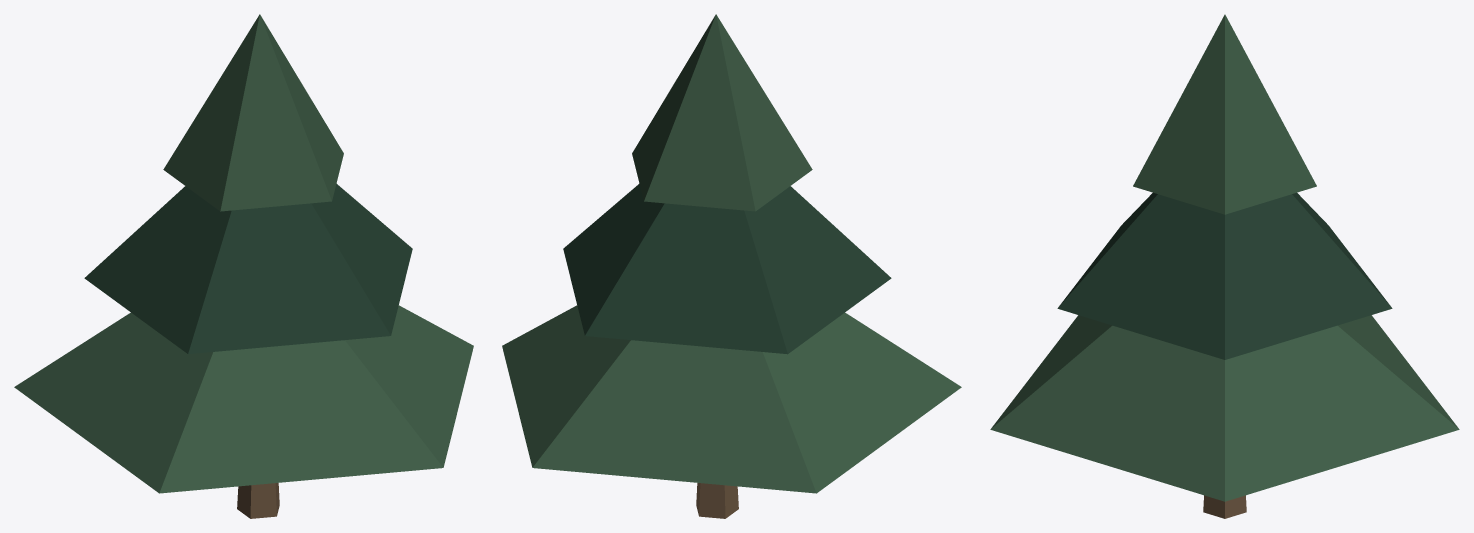
Rendered from tree_pine_02_lod2.glb.
3 views of the same model, side by side, from view 1: azimuth 30°, elevation 25°; view 2: azimuth 150°, elevation 25°; view 3: azimuth 270°, elevation 25° (orthographic).
Visible parts, largest first — view 1: tree_pine_02_lod2; view 2: tree_pine_02_lod2; view 3: tree_pine_02_lod2.
Boxes of the visible parts, left/top/right/bottom form: tree_pine_02_lod2: left=14, top=14, right=473, bottom=518; tree_pine_02_lod2: left=502, top=14, right=961, bottom=518; tree_pine_02_lod2: left=990, top=14, right=1459, bottom=518.
Size of what is drawn, in the model's own units: 5.07 by 6.2 by 5.33.
Materials: 1 (1 with a texture image).
